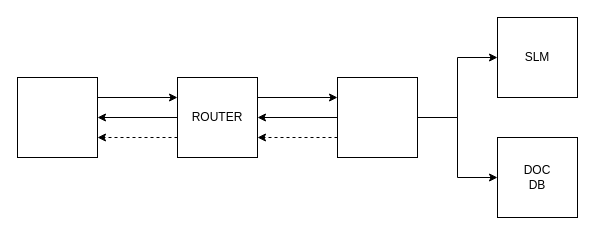
Image size: 595x235. Some labels were removed from this diagram. Here are the shapes that lost their labels. From the top down, the centre of each, then its label:
point 57,117: CHAT
point 377,117: AGENT
